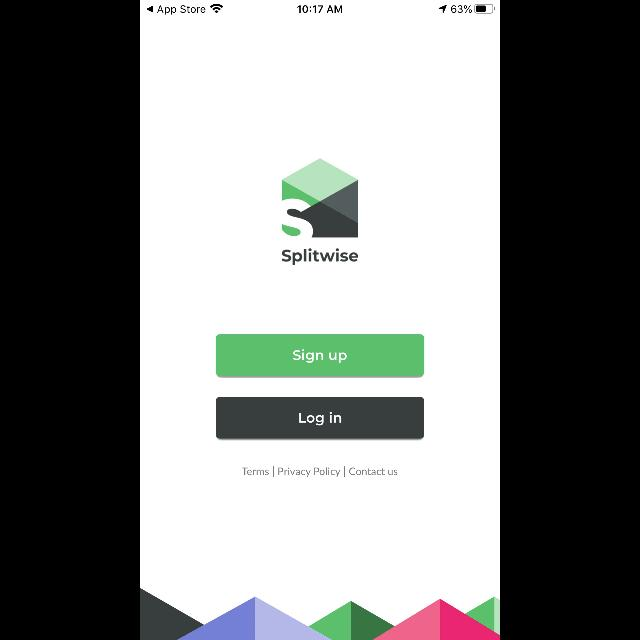image: (140, 588, 500, 640), (282, 158, 358, 238)
text: (282, 248, 358, 264), (278, 468, 340, 477), (349, 468, 397, 476), (242, 468, 268, 476)
textbutton: (216, 334, 424, 378), (216, 398, 424, 440)
uppertaskbar: (140, 0, 500, 14)
